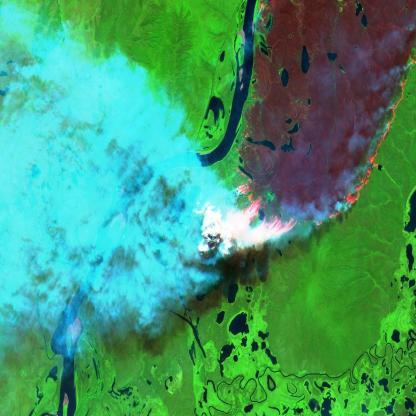fire: (190, 0, 416, 263)
